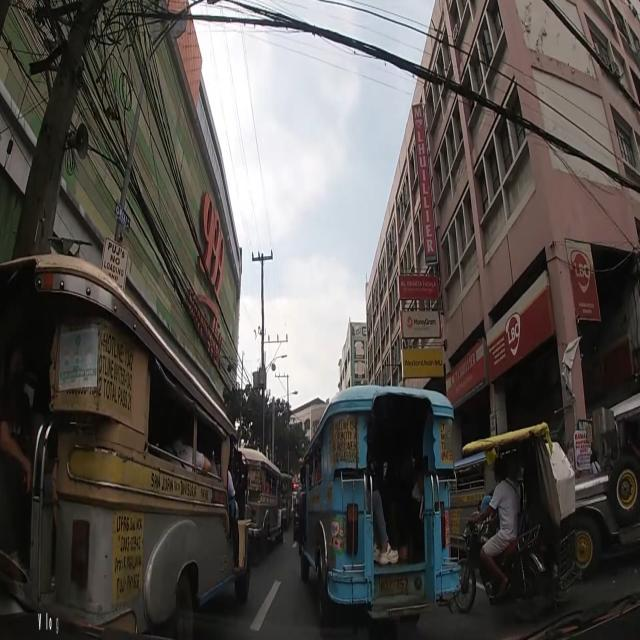jeepney: (0, 251, 253, 640), (294, 388, 462, 634), (574, 391, 640, 580), (238, 446, 286, 554), (454, 451, 496, 546)
tricycle: (454, 422, 584, 626)
